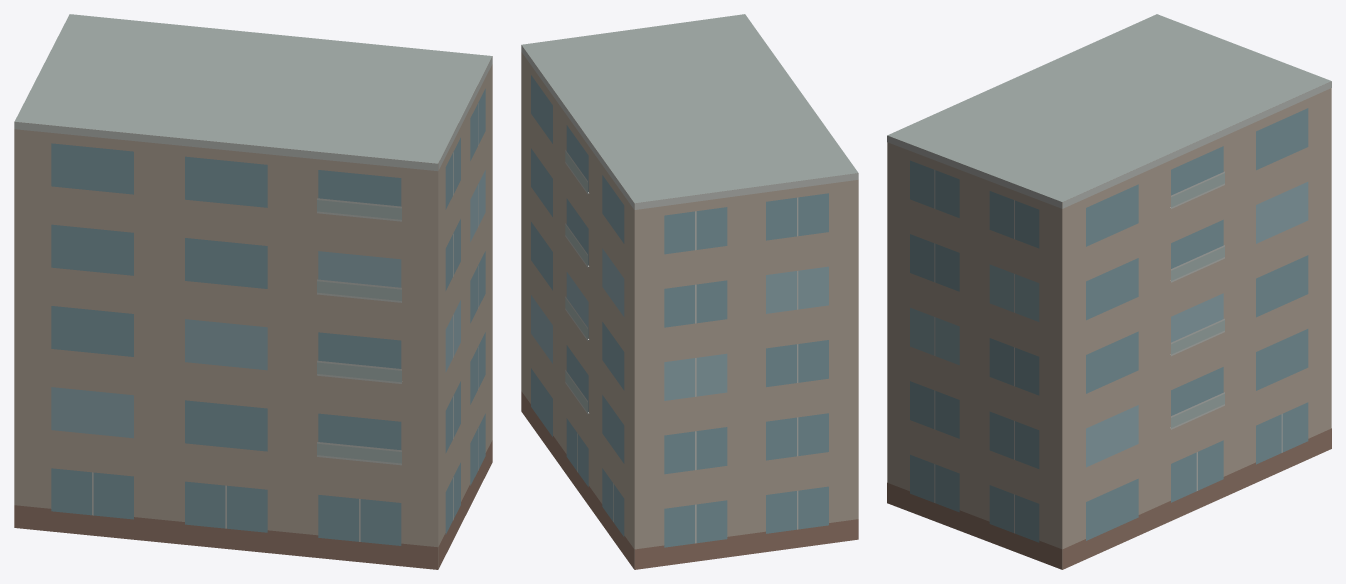
The model's file is survey-upis-32891002.glb.
The picture shows the model from 3 angles, left to right: view 1: azimuth 30°, elevation 25°; view 2: azimuth 150°, elevation 25°; view 3: azimuth 270°, elevation 25°; orthographic projection. The views are drawn at different scales.
Parts seen in each view (by area): view 1: survey-upis-32891002.tmp; view 2: survey-upis-32891002.tmp; view 3: survey-upis-32891002.tmp.
Part boxes in pixels (box(x1,y1,x2,y2)): survey-upis-32891002.tmp: box(14, 14, 492, 569); survey-upis-32891002.tmp: box(521, 14, 858, 569); survey-upis-32891002.tmp: box(887, 14, 1331, 569).
Size of the model in its own units: 14.49 by 13.2 by 14.47.
